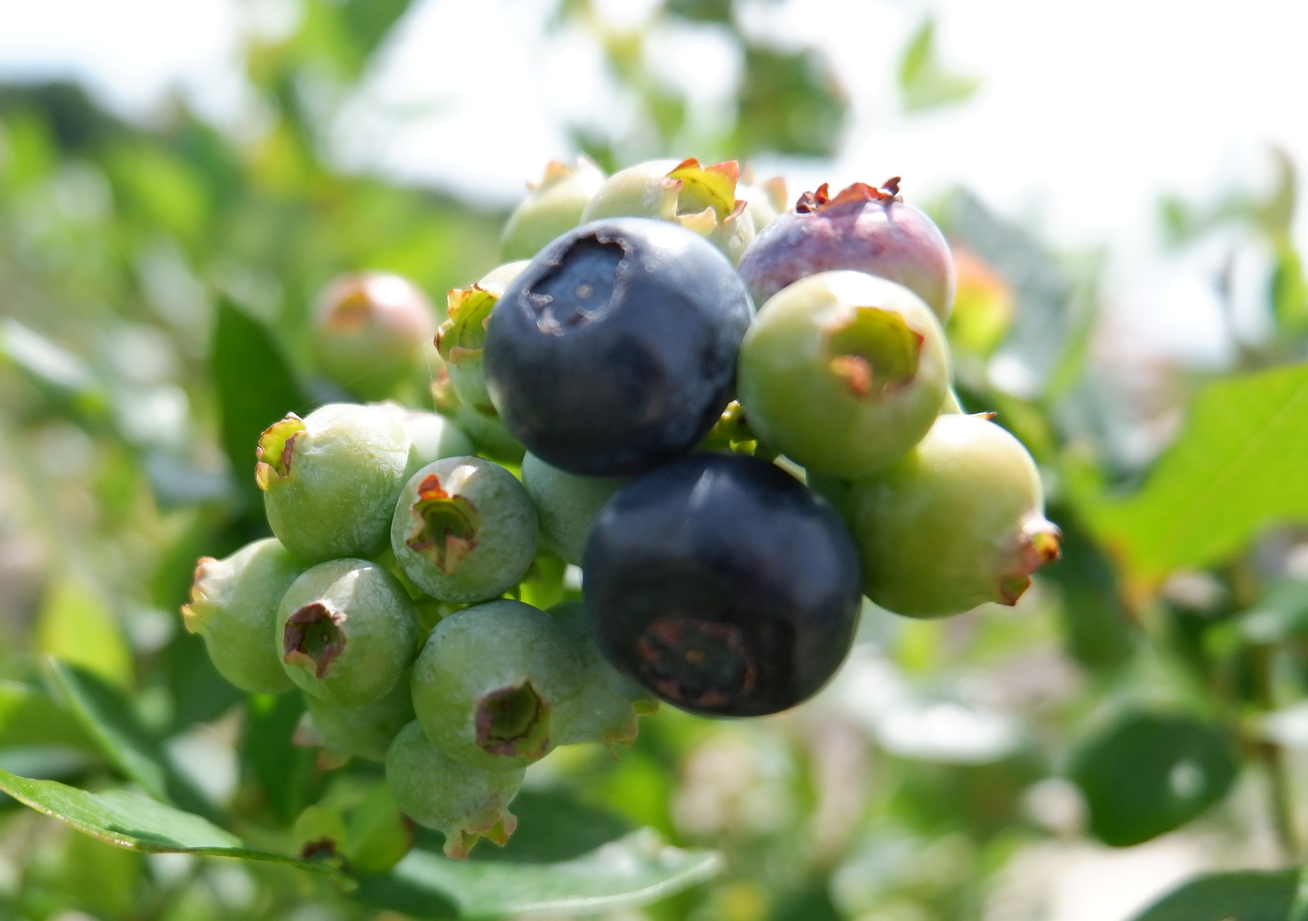Immature: (743, 277, 945, 476), (846, 423, 1053, 615), (745, 182, 954, 316), (409, 607, 584, 761), (263, 408, 407, 562), (392, 460, 536, 606), (586, 160, 754, 282), (277, 565, 415, 705), (188, 544, 306, 693), (390, 722, 521, 852), (546, 604, 659, 746), (440, 262, 527, 412), (526, 455, 619, 563), (507, 158, 602, 258), (430, 370, 525, 467), (393, 412, 471, 478), (730, 160, 791, 235)
Mature: (583, 459, 863, 716), (490, 216, 743, 469)
